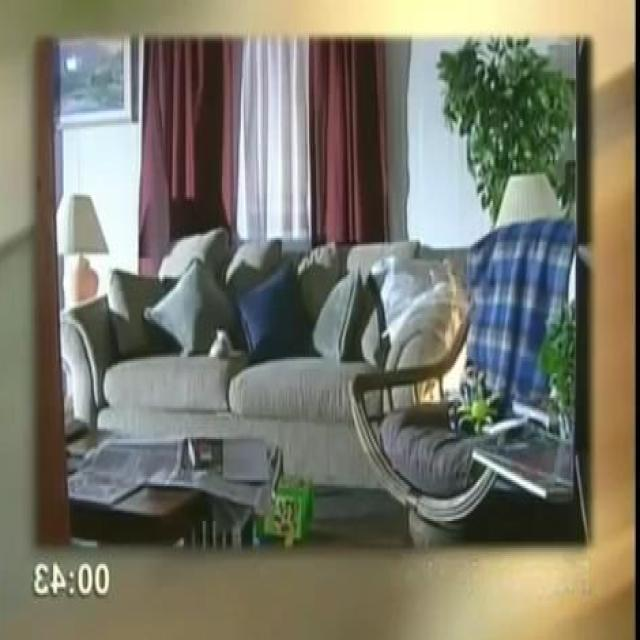smoke: (415, 262, 470, 404)
